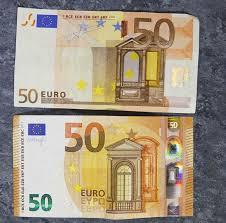euro_banknote: (13, 116, 194, 218), (16, 11, 199, 111)
